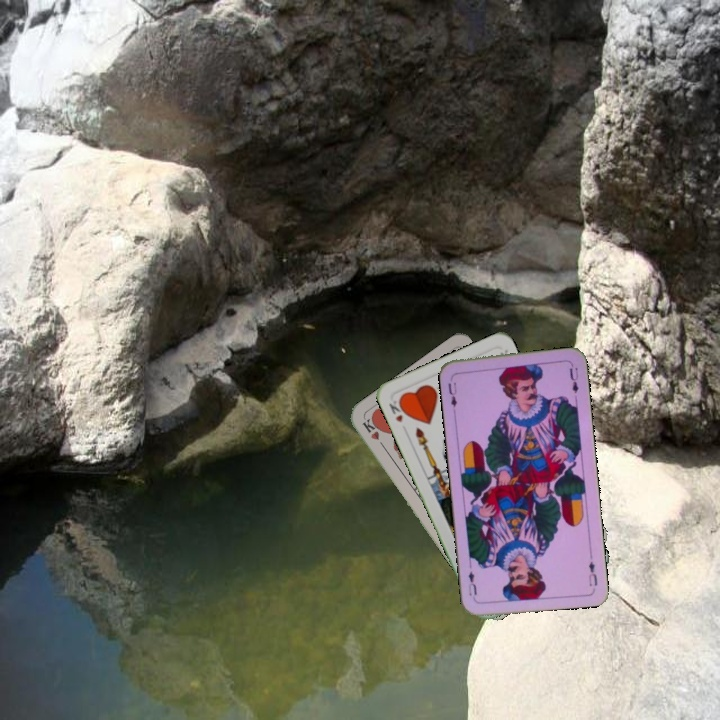EU: (444, 373, 459, 414), (585, 557, 600, 589)
HK: (358, 414, 388, 451), (385, 394, 409, 425)
